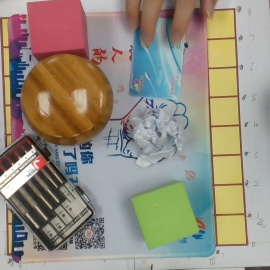card: (132, 13, 187, 101)
chess: (20, 54, 114, 148)
